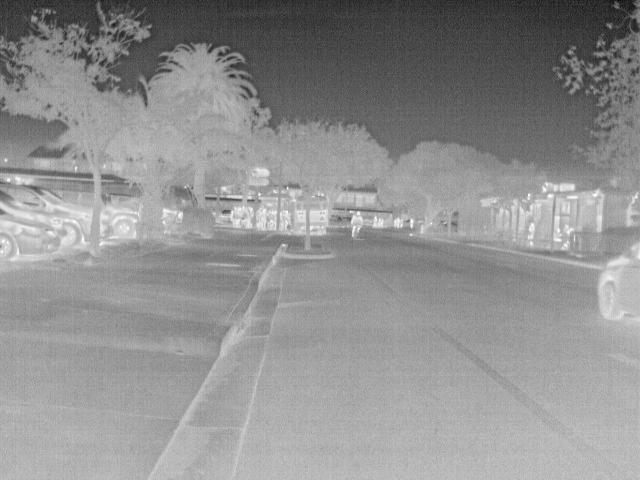car: (2, 183, 95, 248), (1, 206, 67, 264), (597, 243, 640, 325), (102, 202, 140, 242)
person: (350, 209, 365, 238), (525, 219, 538, 241), (551, 227, 564, 242), (371, 212, 380, 229), (408, 216, 415, 230)
